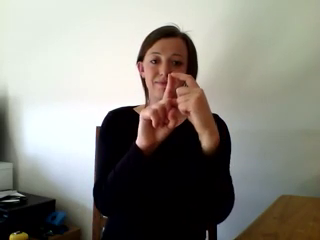D: (137, 70, 215, 148)
